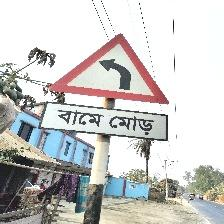Left-Turn: (42, 34, 171, 141)
